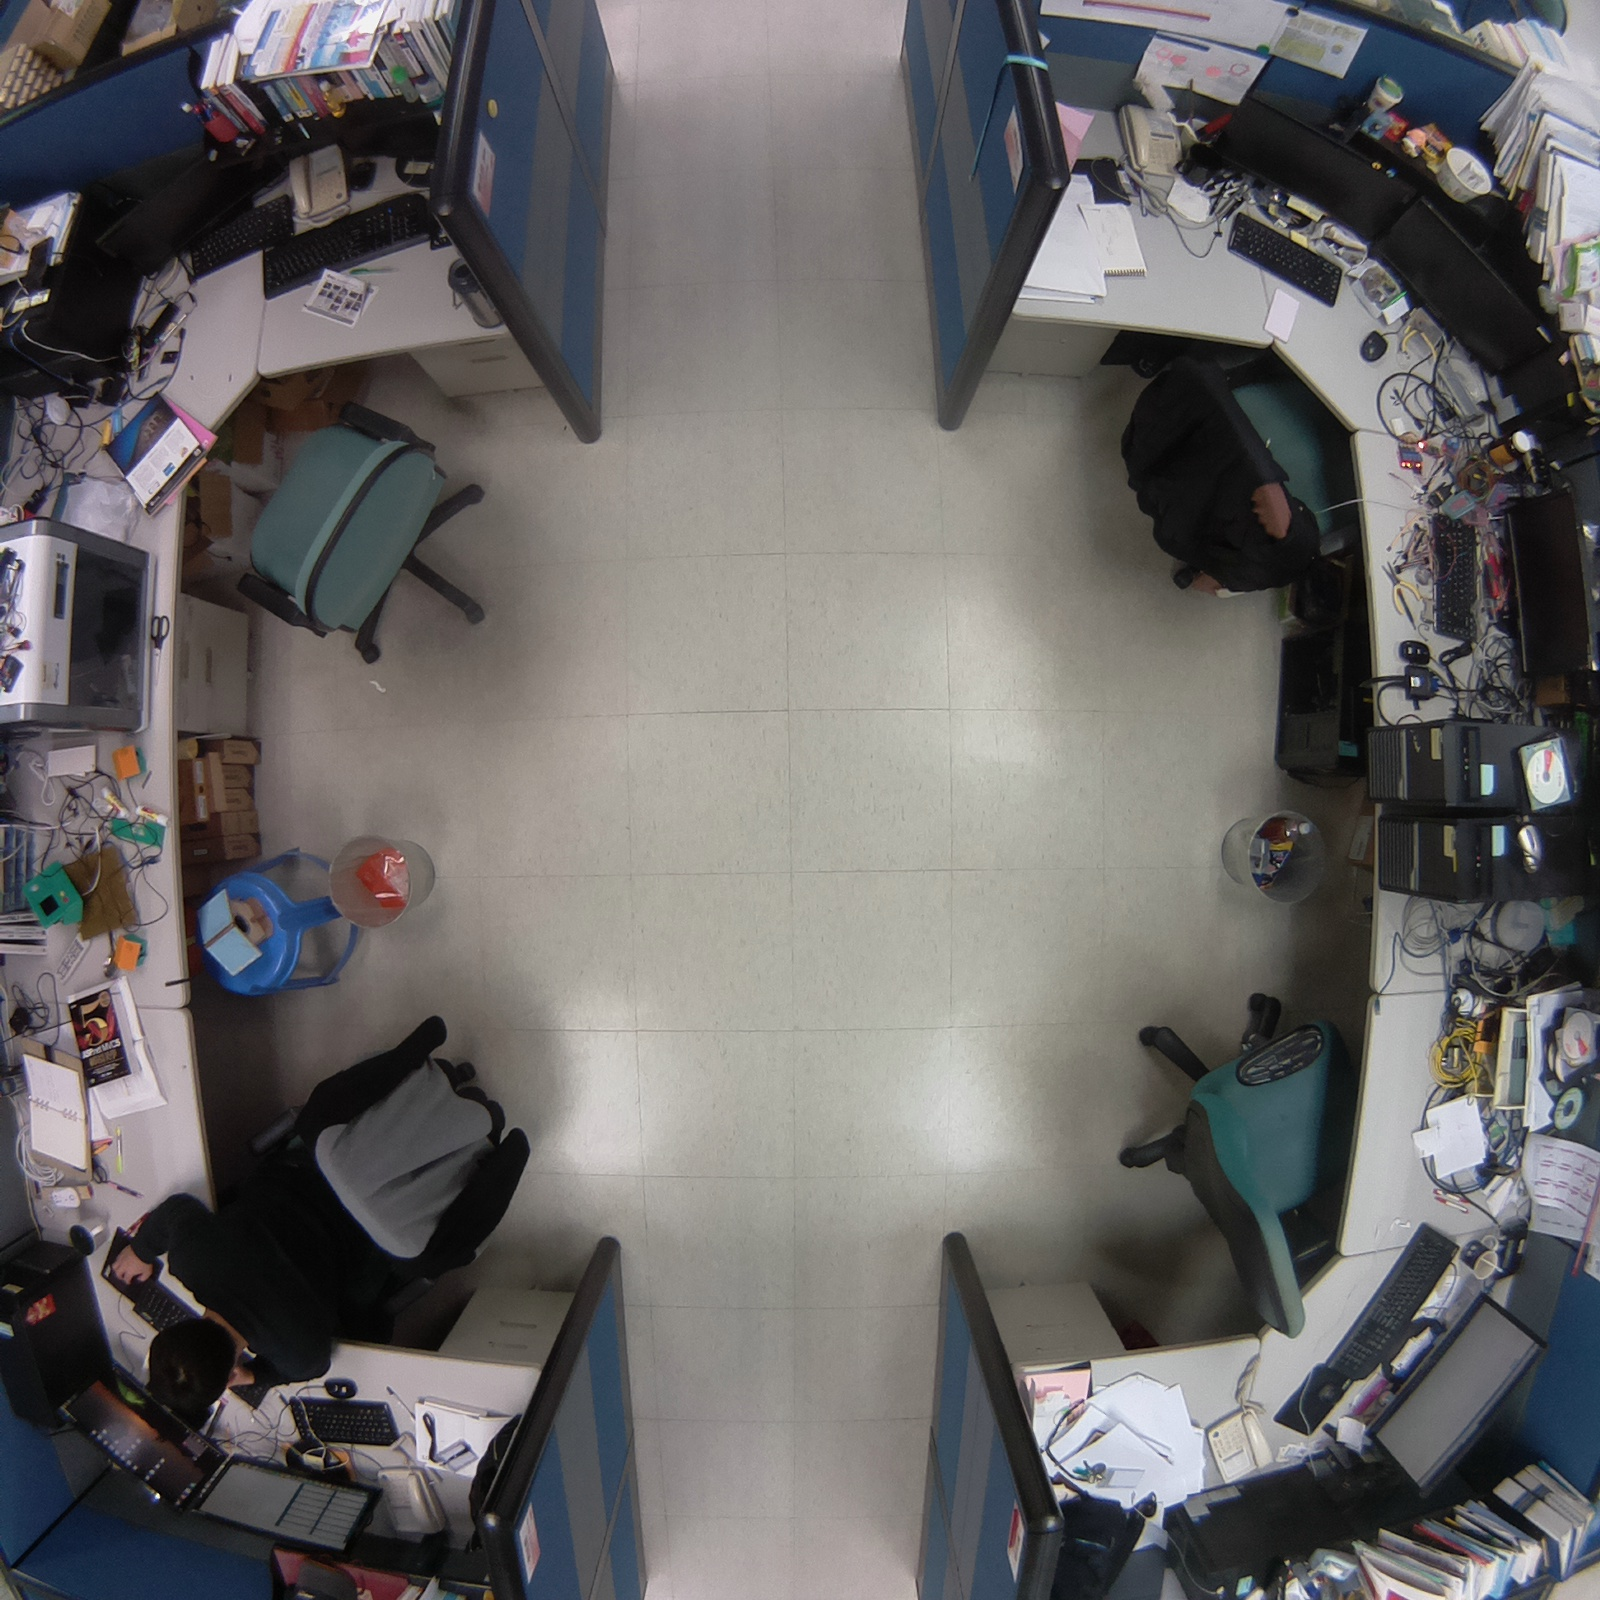chair: (1096, 978, 1383, 1342), (188, 388, 514, 681), (1099, 311, 1373, 611)
head: (142, 1300, 242, 1431)
sitting: (101, 1001, 550, 1440)
